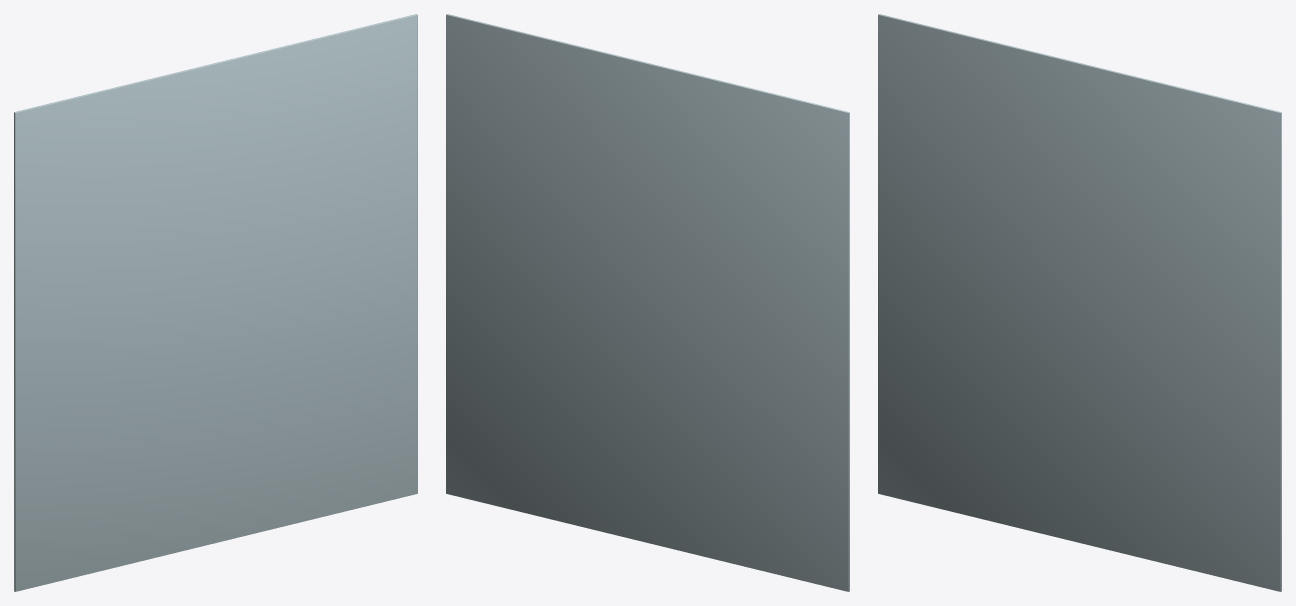
The model's file is window_glass.glb.
3 renders of one model, left to right at view 1: azimuth 30°, elevation 25°; view 2: azimuth 150°, elevation 25°; view 3: azimuth 330°, elevation 25°, orthographic.
Parts seen in each view (by area): view 1: window_glass; view 2: window_glass; view 3: window_glass.
Part boxes in pixels (box(x1,y1,x2,y2)): window_glass: box(14, 14, 417, 591); window_glass: box(446, 14, 849, 591); window_glass: box(878, 14, 1281, 591).
Bounding box in the file's own units: 1.1 × 1.25 × 0.006.
